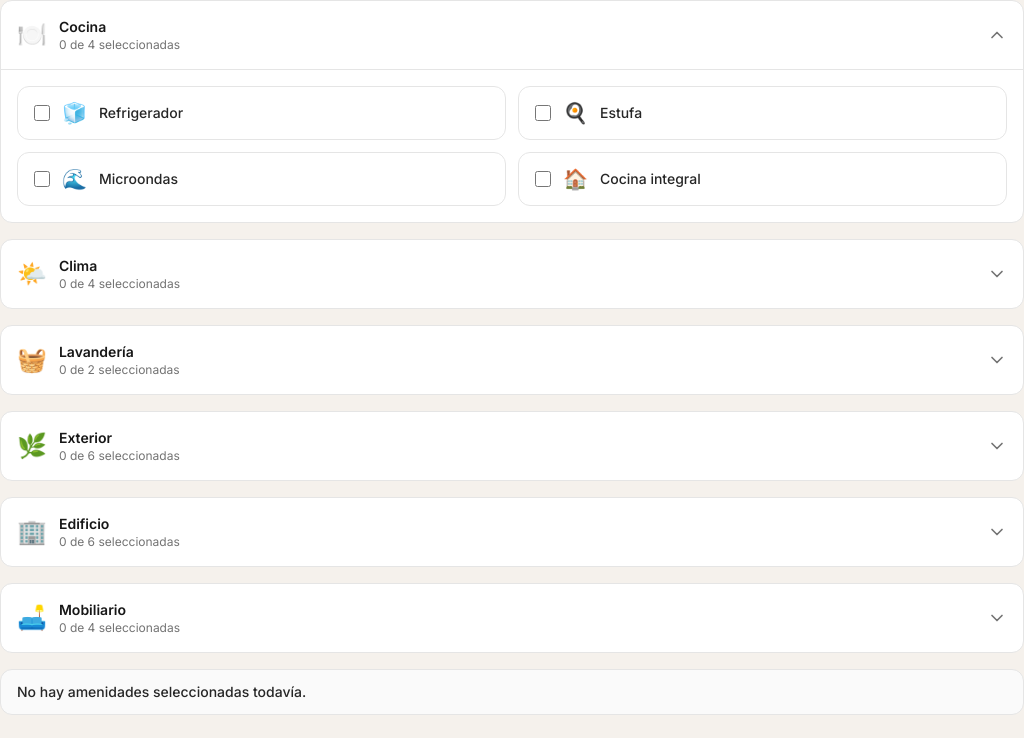
Scenario: PropertyAmenitiesSelector › expands categories, toggles amenities, and shows summary tags
Expected: the text "No hay amenidades seleccionadas todavía." is shown, [17, 683, 306, 700]
Click the button "🌤️ Clima 0 de 4 seleccionadas": (78, 266) [1, 240, 1023, 308]
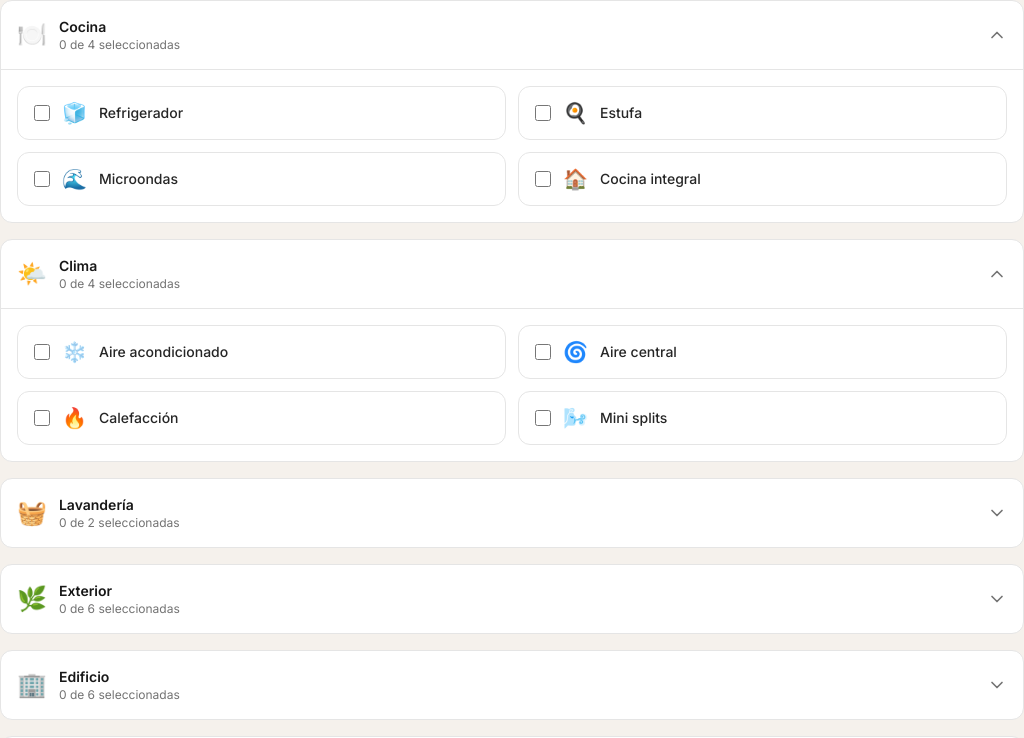
Click the checkbox labelled "Aire acondicionado": (42, 352) [34, 344, 50, 360]
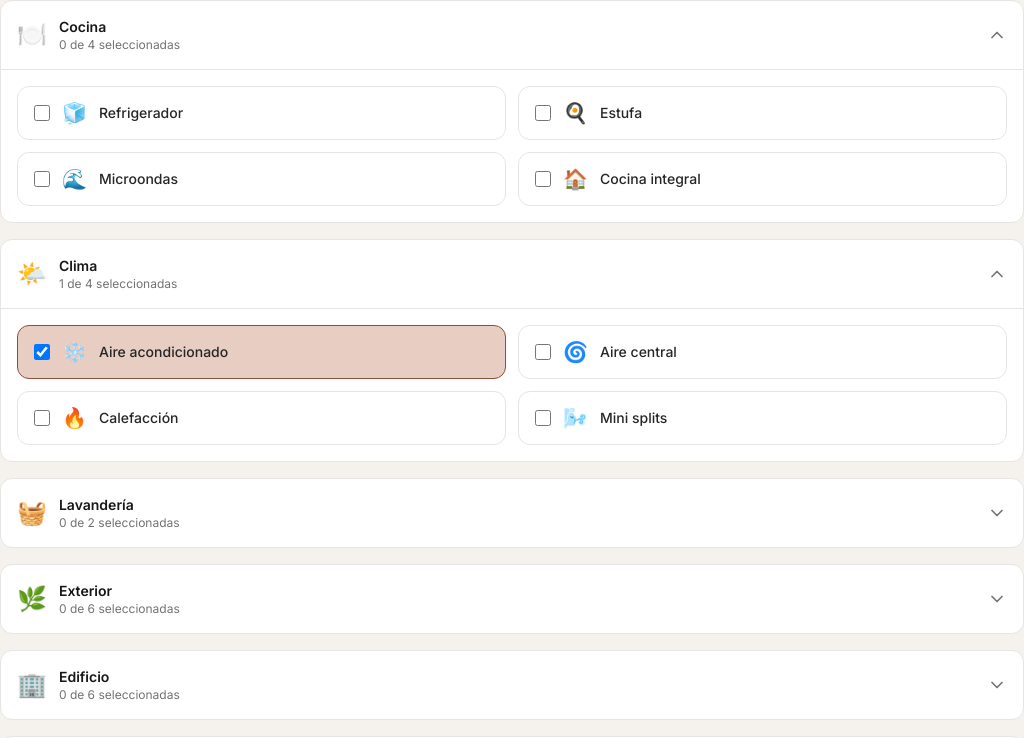
Expected: the text "Aire acondicionado" is shown, [99, 342, 228, 362]
Expected: the text "1 de 4 seleccionadas" is shown, [59, 276, 177, 292]
